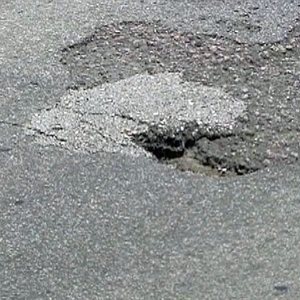pothole: (128, 124, 261, 183)
